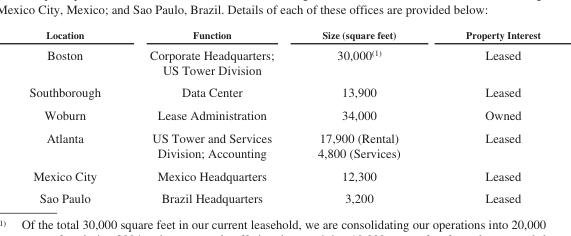table: (28, 28, 539, 205)
table column: (124, 28, 295, 205), (295, 28, 432, 205), (432, 28, 539, 205), (28, 28, 124, 205)
table column header: (28, 28, 539, 43)
table row: (28, 126, 539, 164), (28, 43, 539, 80), (28, 80, 539, 103), (28, 103, 539, 126), (28, 164, 539, 186), (28, 186, 539, 205), (28, 28, 539, 43)
